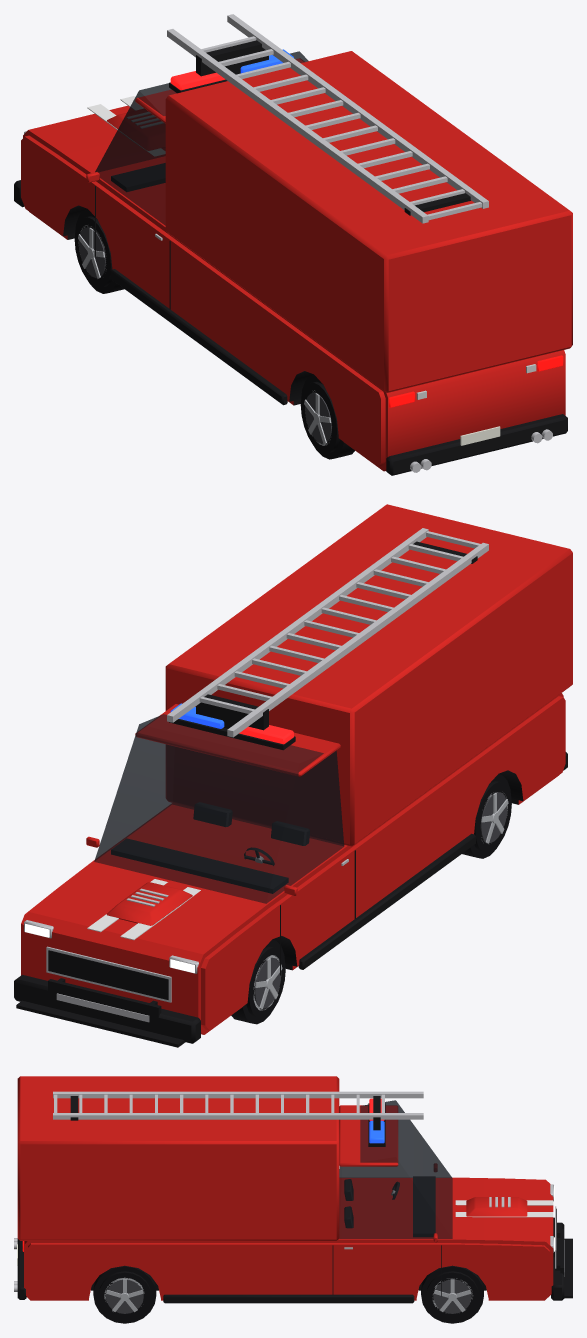
File: firetruck.glb
The picture shows the model from 3 angles, top to bottom: view 1: azimuth 30°, elevation 25°; view 2: azimuth 150°, elevation 25°; view 3: azimuth 270°, elevation 25°; orthographic projection. The views are drawn at different scales.
Parts seen in each view (by area): view 1: Body.010, Wheel_RL.010, Mod_skirts_1.010, Wheel_FL.010, Mod_hood_1.010; view 2: Body.010, Mod_grille_2.010, Mod_bumper_1.010, Wheel_FL.010, Mod_skirts_1.010, Wheel_RL.010, Mod_grille_1.010, Mod_hood_1.010, Mod_bumper_2.010, Mod_livery_1.010; view 3: Body.010, Wheel_RR.010, Wheel_FR.010, Mod_skirts_1.010, Mod_hood_1.010, Mod_bumper_1.010, Mod_livery_1.010, Mod_bumper_2.010.
Boxes of the visible parts, left/top/right/bottom form: Body.010: left=21, top=14, right=572, bottom=475; Wheel_RL.010: left=300, top=375, right=354, bottom=459; Mod_skirts_1.010: left=110, top=269, right=287, bottom=405; Wheel_FL.010: left=74, top=209, right=124, bottom=293; Mod_hood_1.010: left=107, top=109, right=164, bottom=150; Body.010: left=21, top=504, right=572, bottom=1034; Mod_grille_2.010: left=46, top=946, right=171, bottom=1002; Mod_bumper_1.010: left=14, top=974, right=200, bottom=1043; Wheel_FL.010: left=231, top=940, right=285, bottom=1024; Mod_skirts_1.010: left=298, top=833, right=475, bottom=969; Wheel_RL.010: left=462, top=774, right=511, bottom=858; Mod_grille_1.010: left=55, top=951, right=161, bottom=998; Mod_hood_1.010: left=106, top=882, right=192, bottom=925; Mod_bumper_2.010: left=16, top=1000, right=185, bottom=1047; Mod_livery_1.010: left=87, top=879, right=200, bottom=940; Body.010: left=17, top=1076, right=564, bottom=1300; Wheel_RR.010: left=93, top=1265, right=156, bottom=1323; Wheel_FR.010: left=421, top=1265, right=483, bottom=1323; Mod_skirts_1.010: left=163, top=1294, right=414, bottom=1303; Mod_hood_1.010: left=466, top=1197, right=527, bottom=1216; Mod_bumper_1.010: left=551, top=1222, right=564, bottom=1300; Mod_livery_1.010: left=455, top=1200, right=553, bottom=1217; Mod_bumper_2.010: left=564, top=1238, right=572, bottom=1298.
Size of the model in its own units: 2.79 by 3.34 by 8.87.
